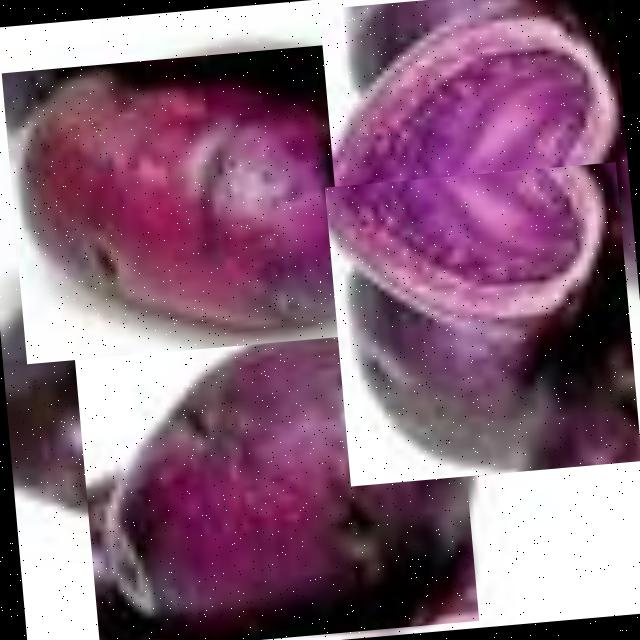Defected potato: (73, 313, 478, 640), (2, 42, 380, 364), (319, 0, 640, 357), (324, 162, 640, 486)
